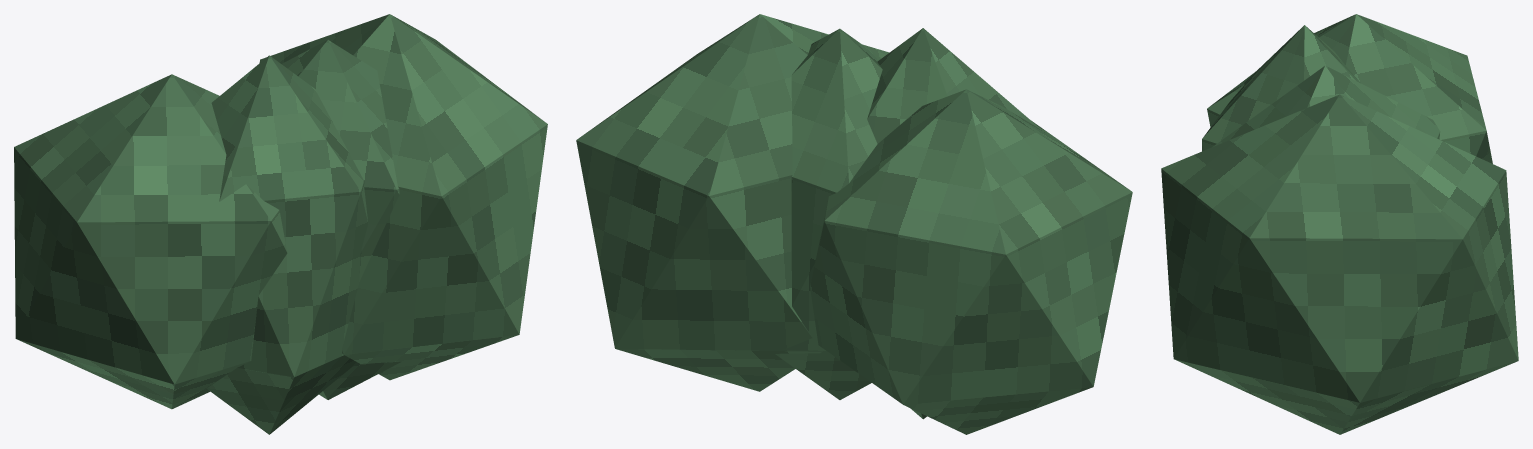
File: ruin_06.glb
3 views of the same model, side by side, from view 1: azimuth 30°, elevation 25°; view 2: azimuth 150°, elevation 25°; view 3: azimuth 270°, elevation 25° (orthographic). The views are drawn at different scales.
Parts seen in each view (by area): view 1: WeatheredStone, WeatheredStone.003, WeatheredStone.001, WeatheredStone.002; view 2: WeatheredStone, WeatheredStone.003, WeatheredStone.002, WeatheredStone.001; view 3: WeatheredStone.003, WeatheredStone, WeatheredStone.001, WeatheredStone.002.
Part boxes in pixels (box(x1,y1,x2,y2)): WeatheredStone: box(14, 74, 287, 409); WeatheredStone.003: box(259, 14, 547, 380); WeatheredStone.001: box(206, 55, 368, 434); WeatheredStone.002: box(281, 40, 401, 399); WeatheredStone: box(810, 89, 1132, 434); WeatheredStone.003: box(576, 14, 889, 391); WeatheredStone.002: box(775, 28, 882, 399); WeatheredStone.001: box(867, 28, 1041, 419); WeatheredStone.003: box(1161, 94, 1518, 434); WeatheredStone: box(1207, 14, 1492, 163); WeatheredStone.001: box(1202, 25, 1360, 151); WeatheredStone.002: box(1213, 65, 1440, 146).
Bounding box in the file's own units: 3.14 × 2.34 × 2.15.
Materials: 1 (1 with a texture image).
